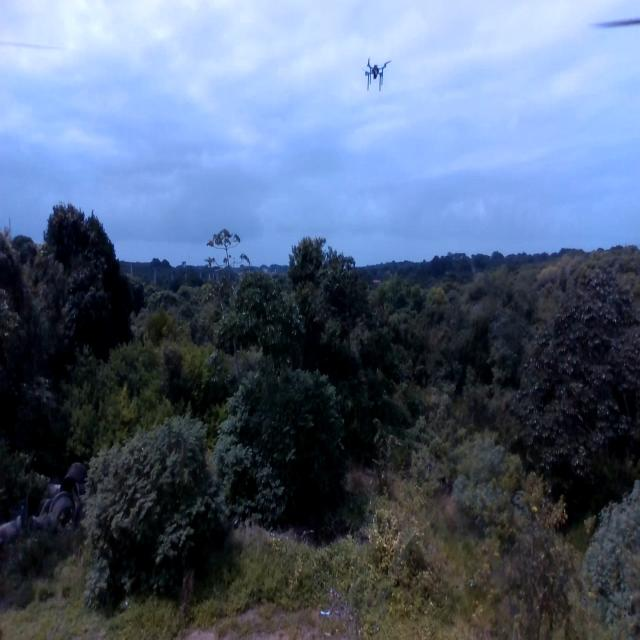-uav-: (358, 49, 396, 101)
